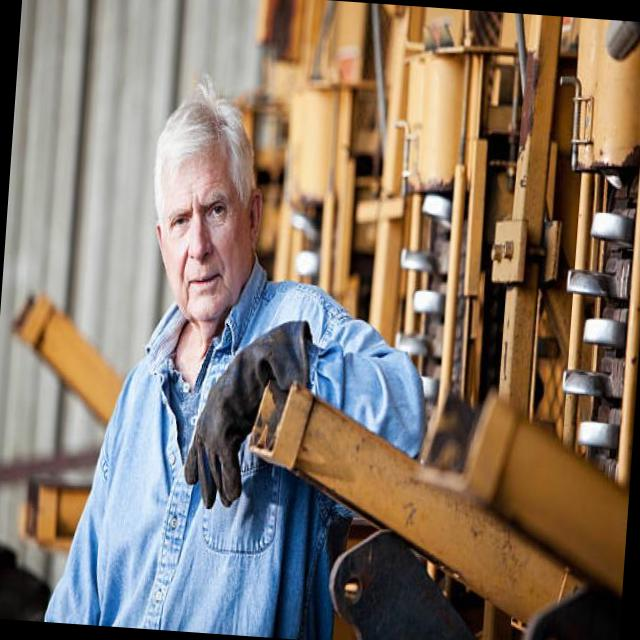Gloves: (177, 308, 316, 517)
